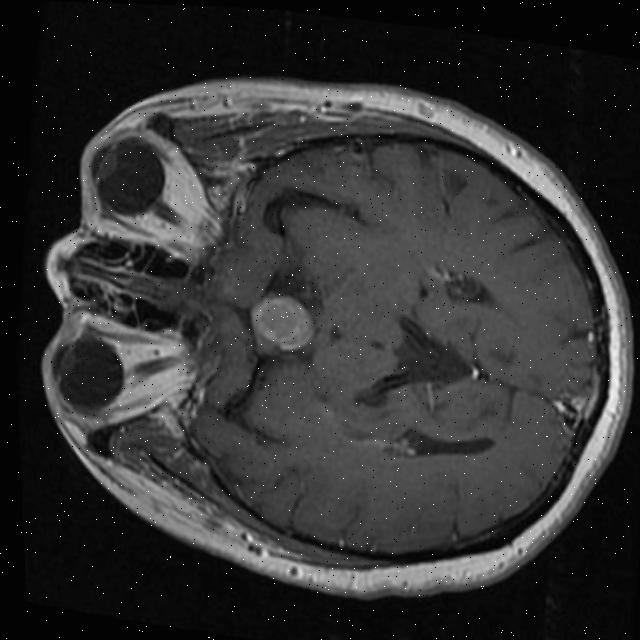Pituitary: (245, 291, 316, 354)
